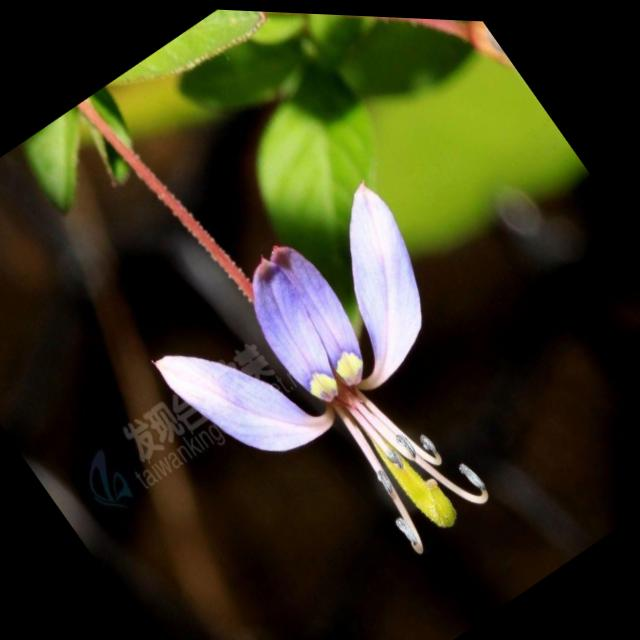Flower: (132, 159, 568, 619)
